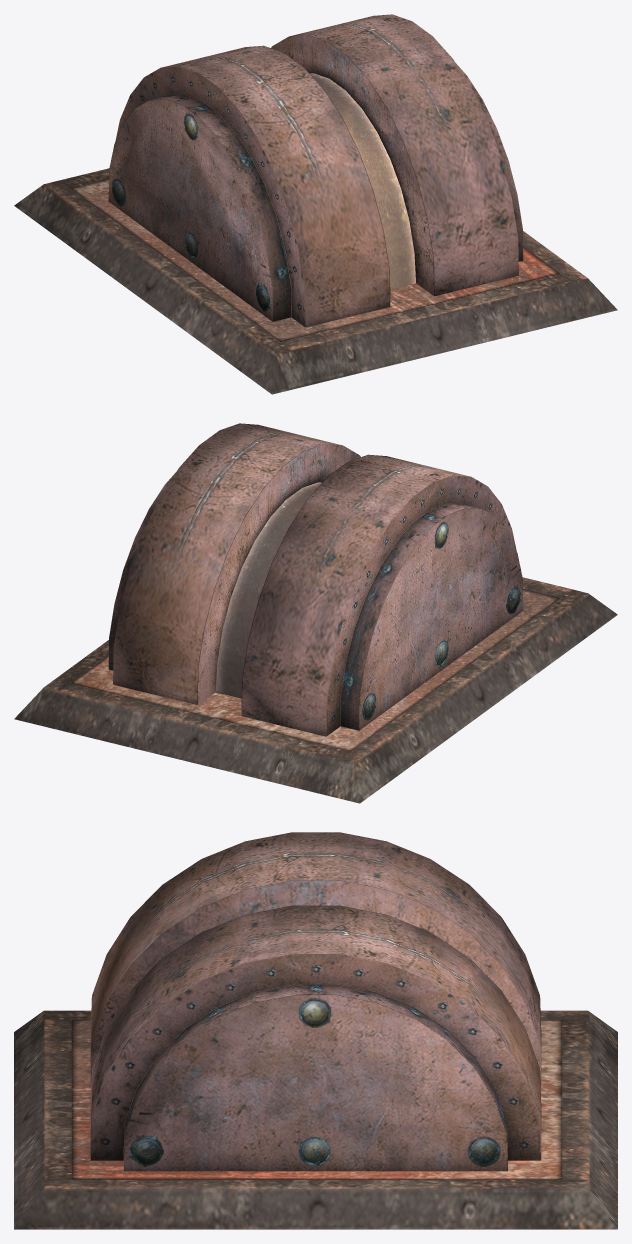
File: corpus.fbx
The picture shows the model from 3 angles, top to bottom: view 1: azimuth 30°, elevation 25°; view 2: azimuth 150°, elevation 25°; view 3: azimuth 270°, elevation 25°; orthographic projection. The views are drawn at different scales.
Parts seen in each view (by area): view 1: Corpus; view 2: Corpus; view 3: Corpus.
Part boxes in pixels (x1,y1,x2,y2): Corpus: (14, 14, 617, 394); Corpus: (14, 423, 617, 803); Corpus: (14, 832, 617, 1229).
Bounding box in the file's own units: 40.8 × 22.9 × 52.73.
